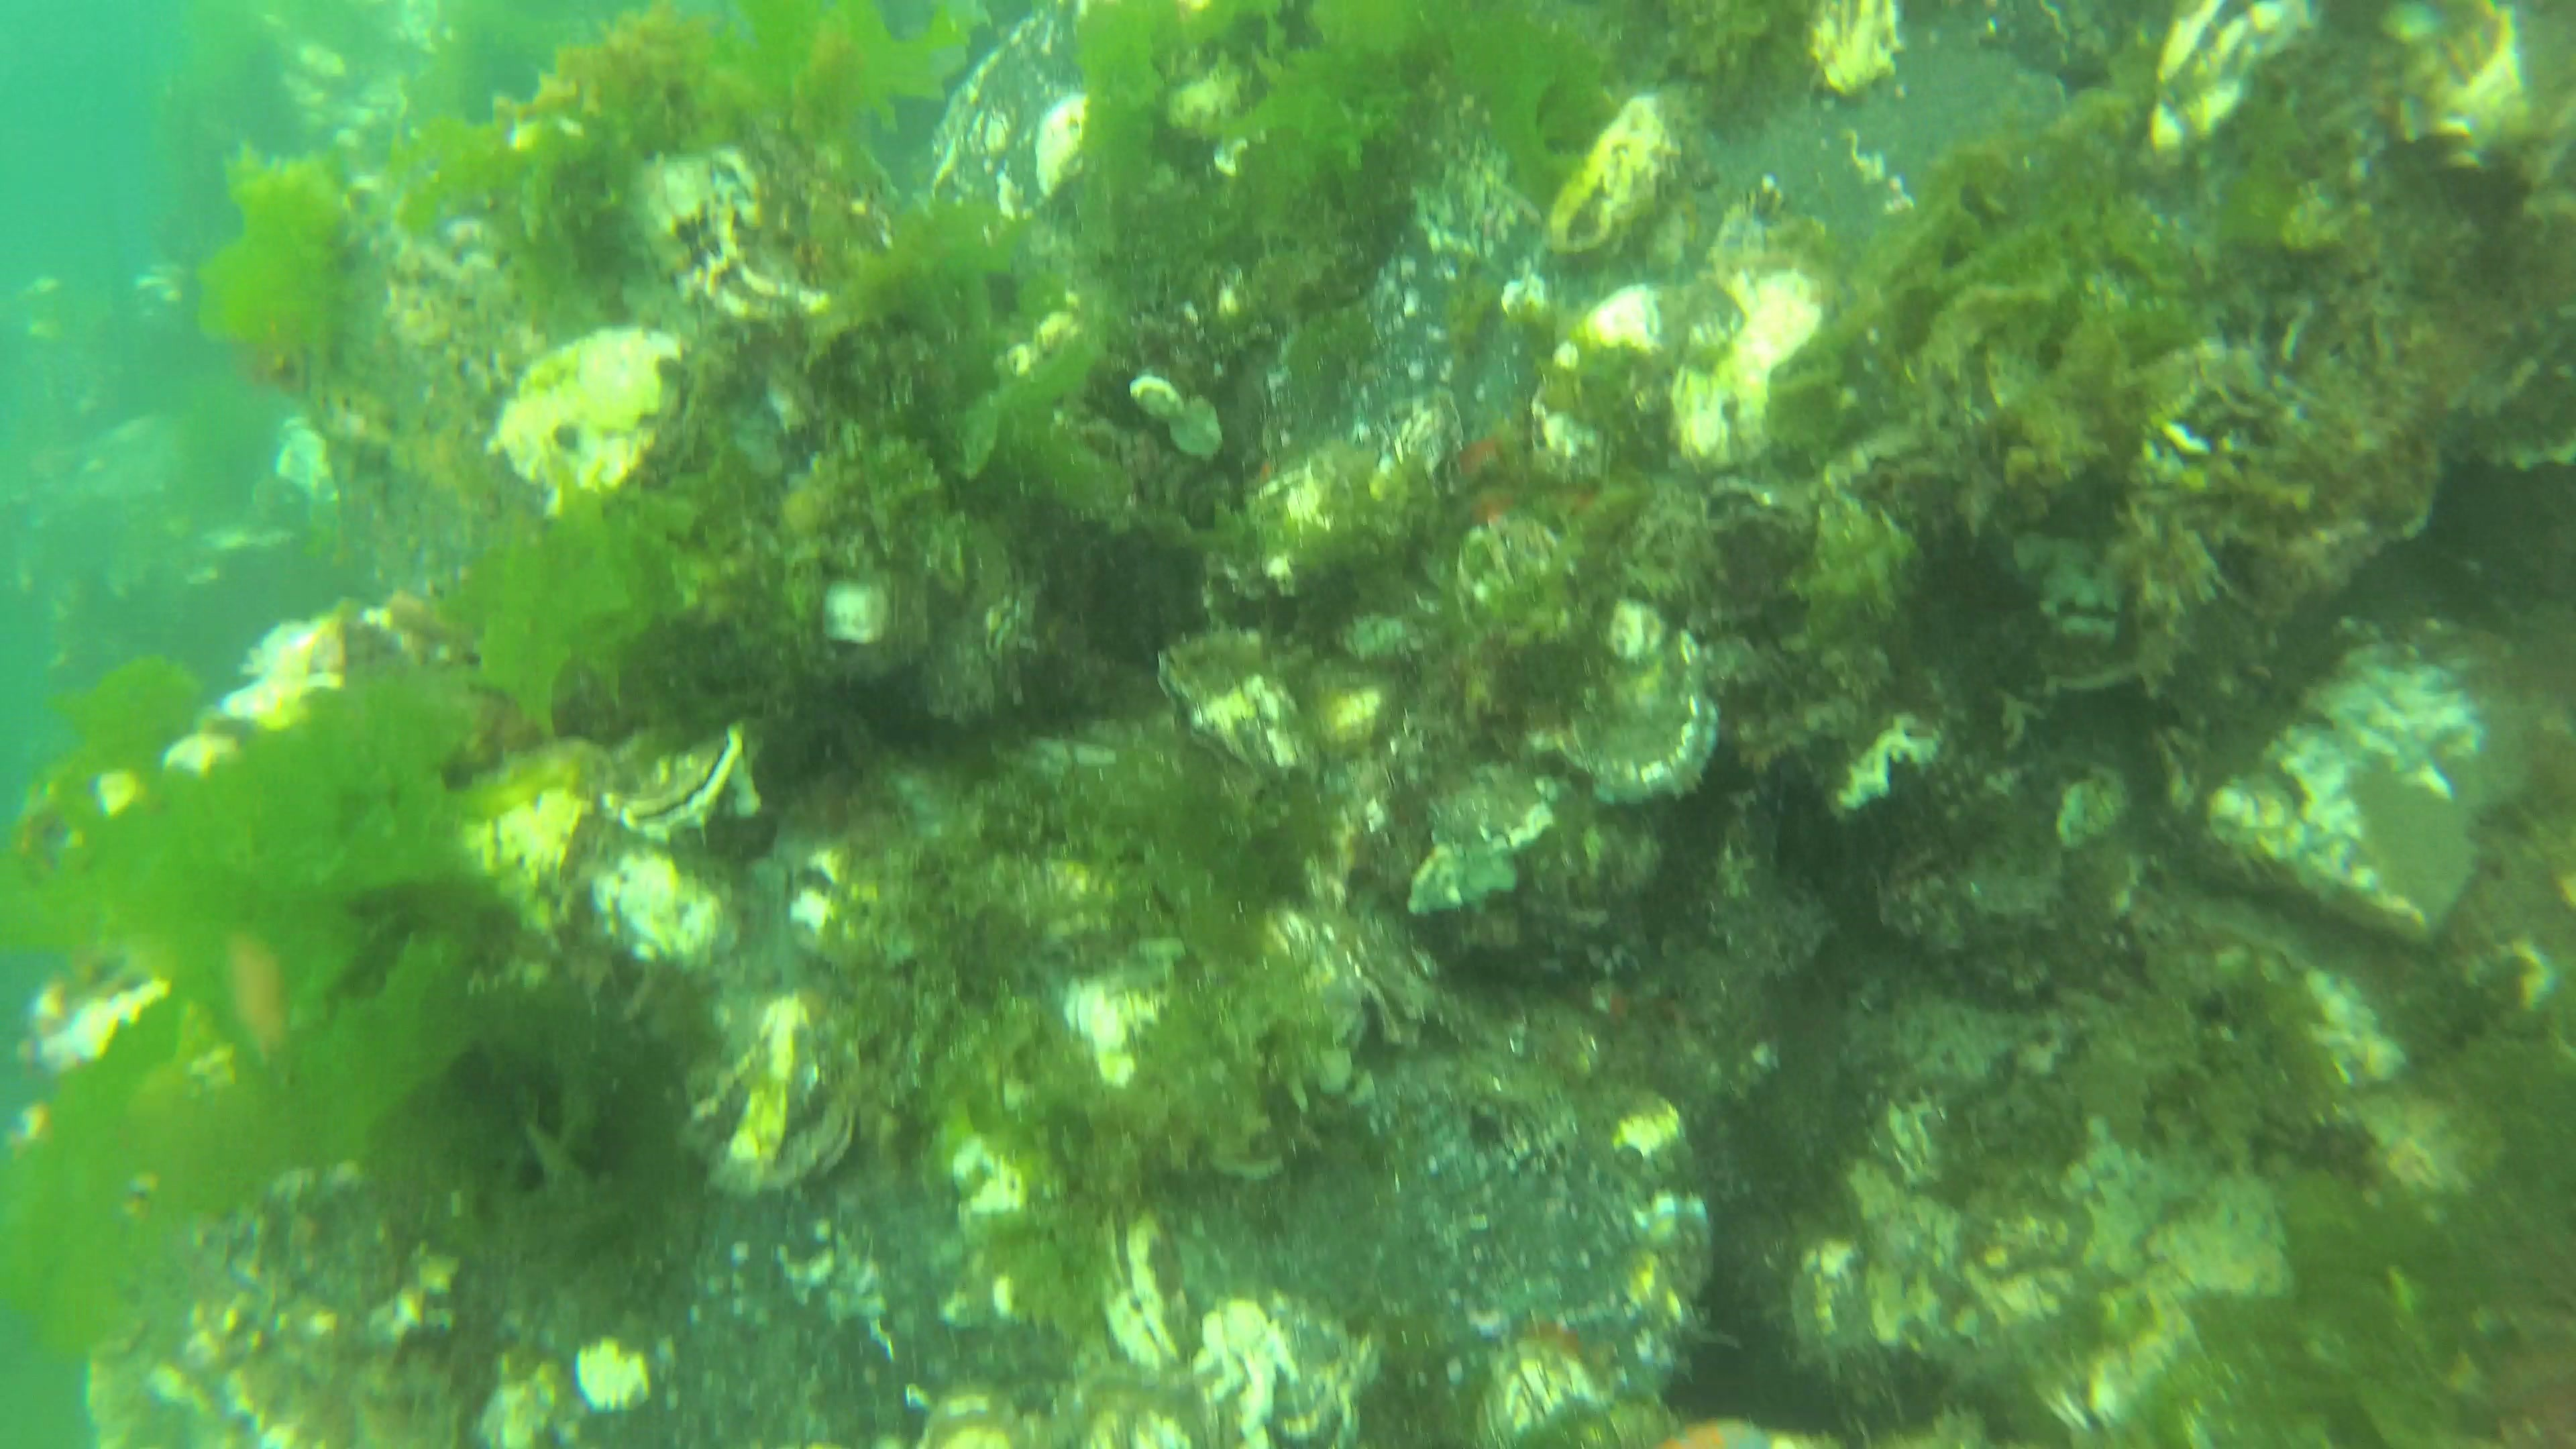starfish: (1660, 1415, 1771, 1449)
